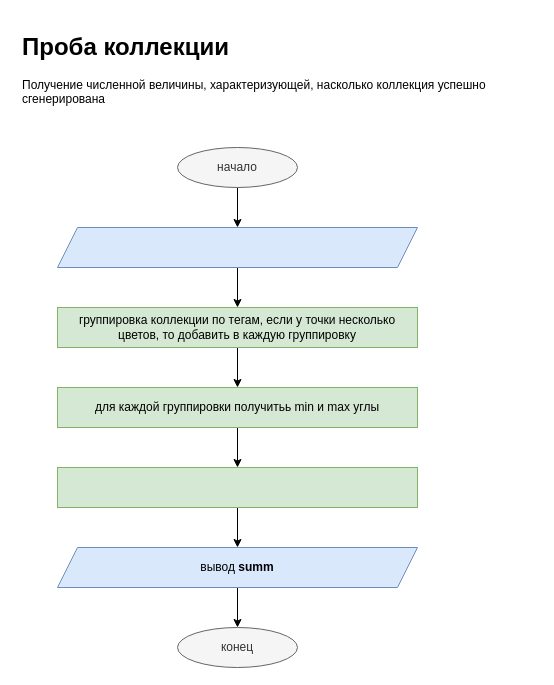
This 554x685 diagram has some shape labels left out. Each missing label, with the centre of its shape:
просуммировать (max - min) всех группировок, в переменную summ: [237,487]
список полярных координат с цветами тегов: [237,247]
